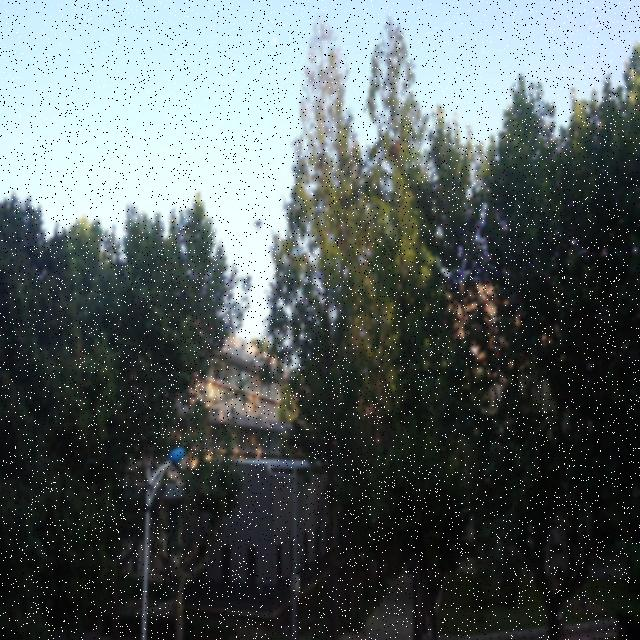UAV: (251, 219, 265, 231)
